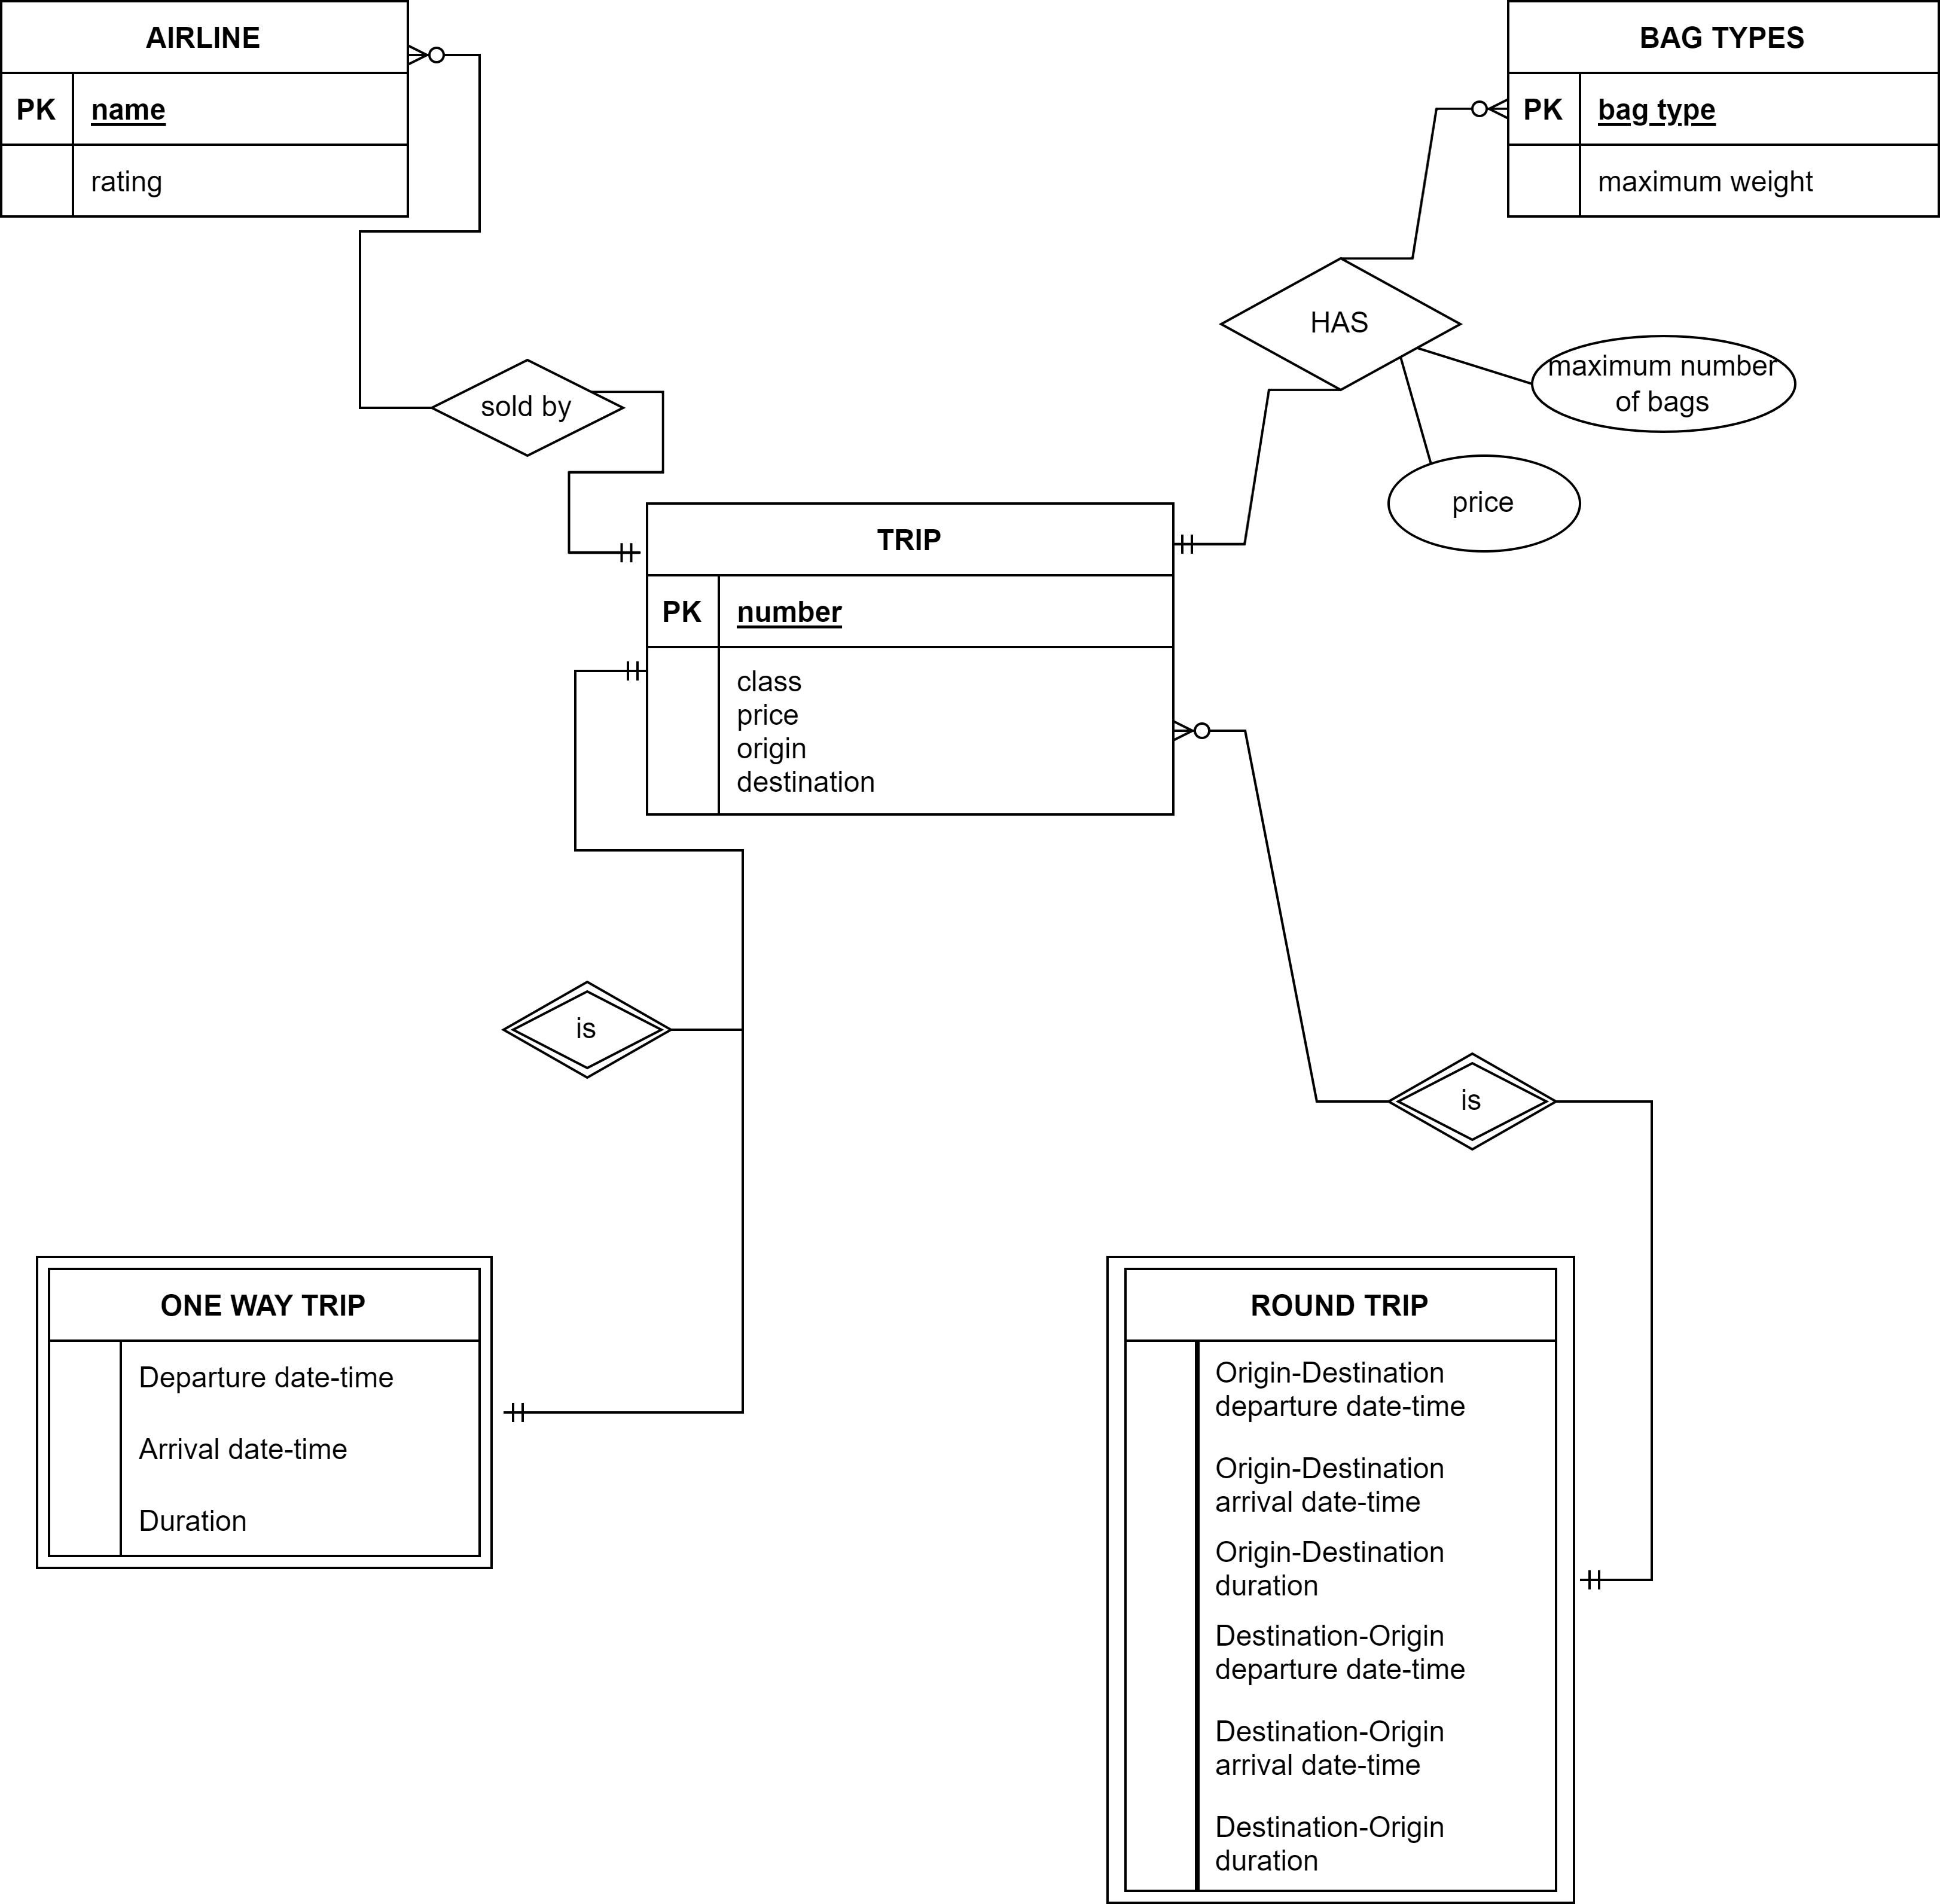attribute: (1529, 335, 1797, 432), (1386, 457, 1579, 553)
entity: (645, 499, 1178, 819), (1504, 0, 1940, 223), (0, 0, 411, 221)
relationship: (1220, 255, 1461, 392), (431, 359, 629, 457)
weakentity: (1102, 1254, 1579, 1904), (33, 1254, 495, 1576)
weakrelationship: (502, 982, 669, 1081), (1389, 1053, 1551, 1147)
